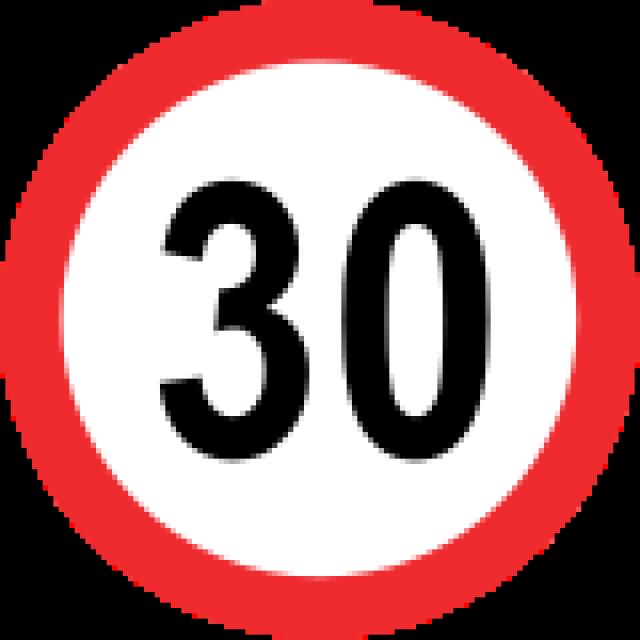Speed Limit -30-: (146, 158, 504, 470)
